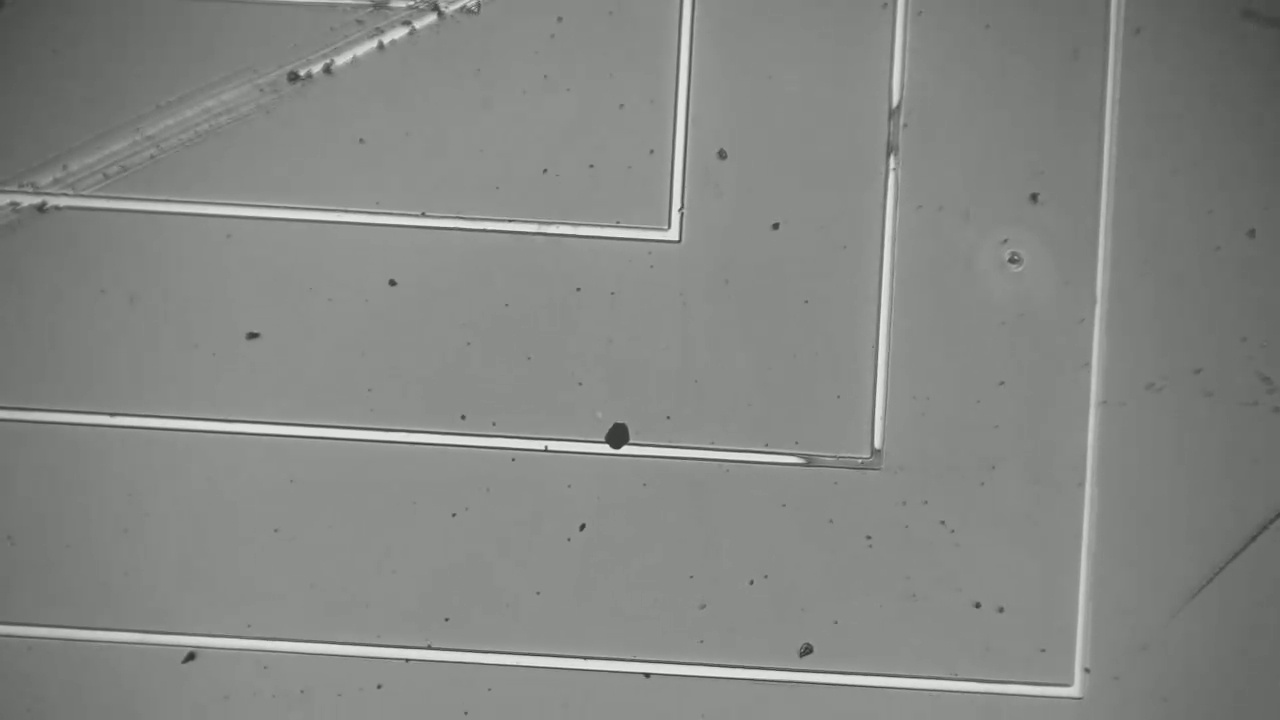edge_bite: (663, 198, 688, 218)
gray_line: (788, 451, 902, 474), (880, 88, 908, 174), (865, 431, 888, 478)
scratch: (1, 2, 477, 214), (1157, 520, 1277, 627)
stains_enbedded: (597, 409, 636, 465)
